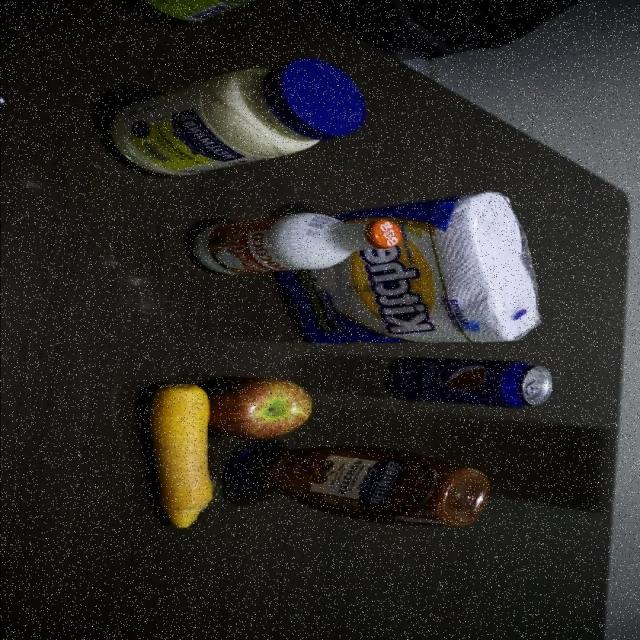Apple: (208, 375, 316, 442)
Carrot: (141, 382, 217, 530)
ChocolatePowder: (117, 0, 268, 27)
CoconutMilk: (189, 212, 403, 276)
Ketchup: (225, 443, 495, 530)
Mayonnaise: (106, 57, 372, 176)
Napkin: (264, 184, 544, 343)
SodaCan: (379, 356, 558, 411)
